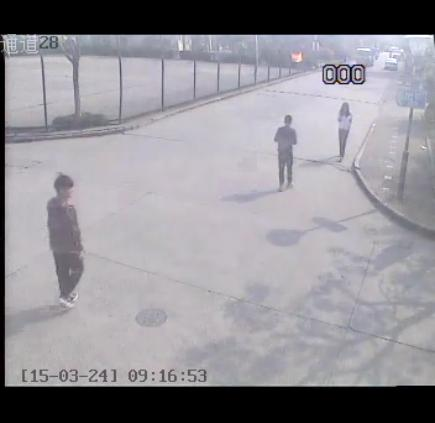person: (33, 162, 102, 315), (265, 103, 303, 197), (333, 95, 353, 165)
